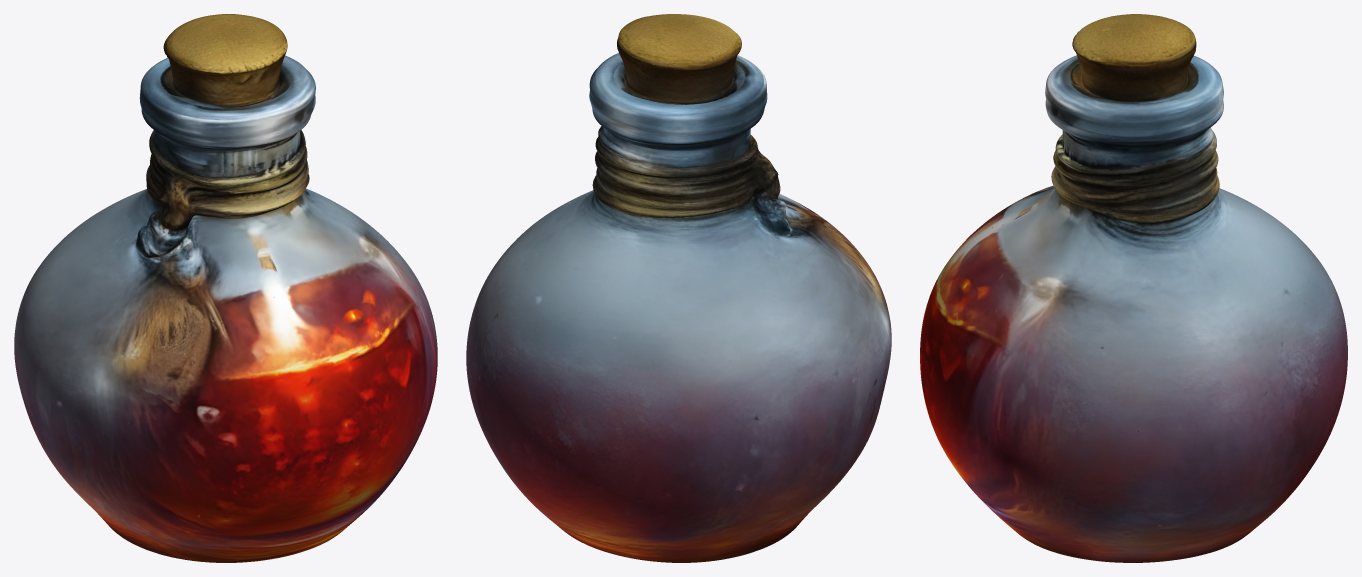
Rendered from potion_bottle.glb.
The picture shows the model from 3 angles, left to right: view 1: azimuth 30°, elevation 25°; view 2: azimuth 150°, elevation 25°; view 3: azimuth 270°, elevation 25°; orthographic projection.
Parts seen in each view (by area): view 1: material; view 2: material; view 3: material.
Boxes of the visible parts, x1,y1,x2,y2 form: material: (14, 14, 437, 562); material: (466, 14, 891, 562); material: (920, 14, 1347, 562).
Bounding box in the file's own units: 0.8643 × 1.09 × 0.8703.
1 material, 1 textured.
